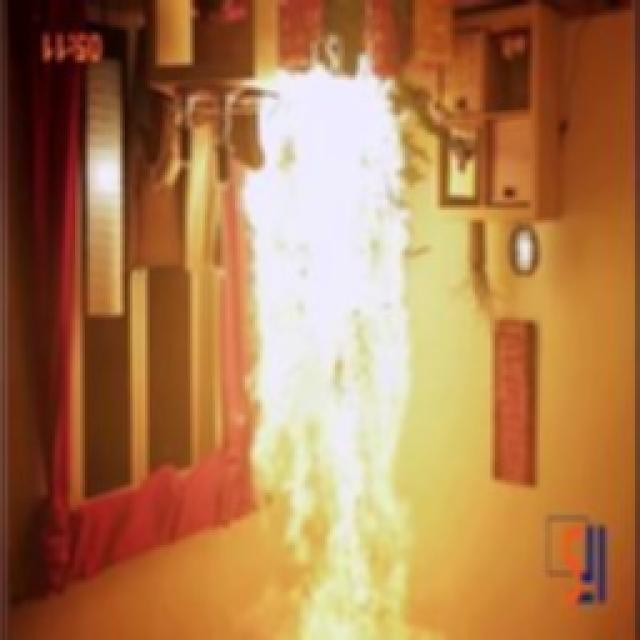fire: (182, 55, 446, 640)
